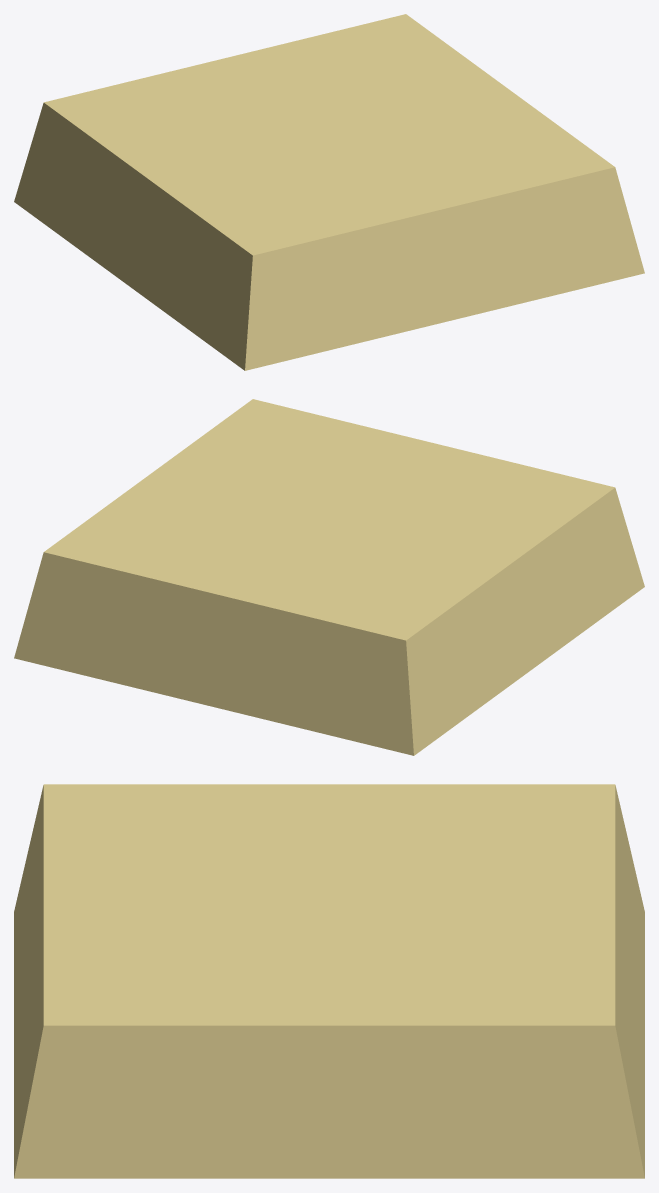
Rendered from OrderStationButton.fbx.
3 renders of one model, top to bottom at view 1: azimuth 30°, elevation 25°; view 2: azimuth 150°, elevation 25°; view 3: azimuth 270°, elevation 25°, orthographic. The views are drawn at different scales.
Visible parts, largest first — view 1: Knopka; view 2: Knopka; view 3: Knopka.
Boxes of the visible parts, <box> form: Knopka: <box>14,14,644,370</box>; Knopka: <box>14,399,644,755</box>; Knopka: <box>14,784,644,1178</box>.
Bounding box in the file's own units: 2.58 × 0.6343 × 2.58.
